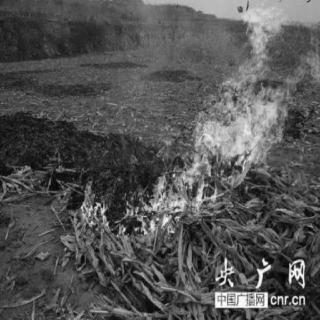Fire: (117, 11, 317, 238)
